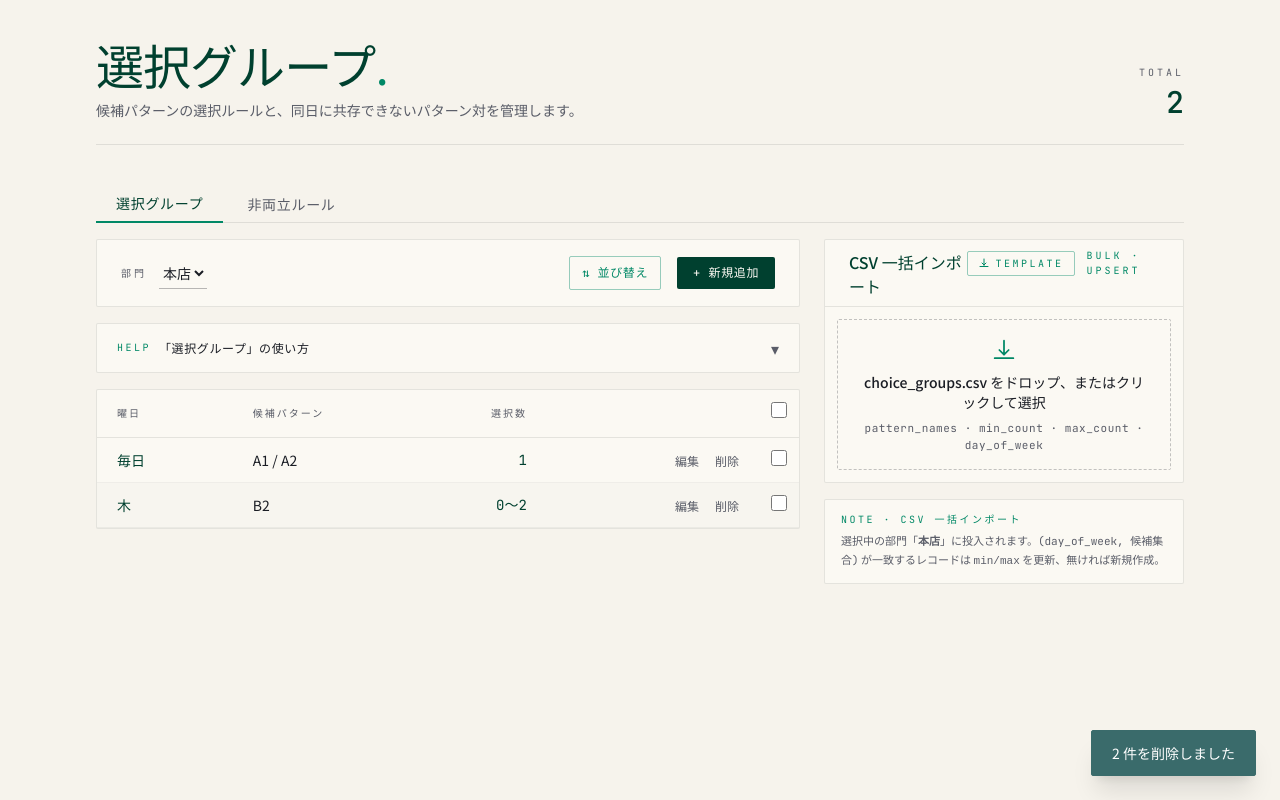
it: ChoiceGroupsPage — reorder › incomp reorder is disabled with single row
Expected: the text "毎日" is shown, [97, 438, 241, 482]
Click the button "非両立ルール" at {"x": 292, "y": 204}, box [227, 185, 356, 222]
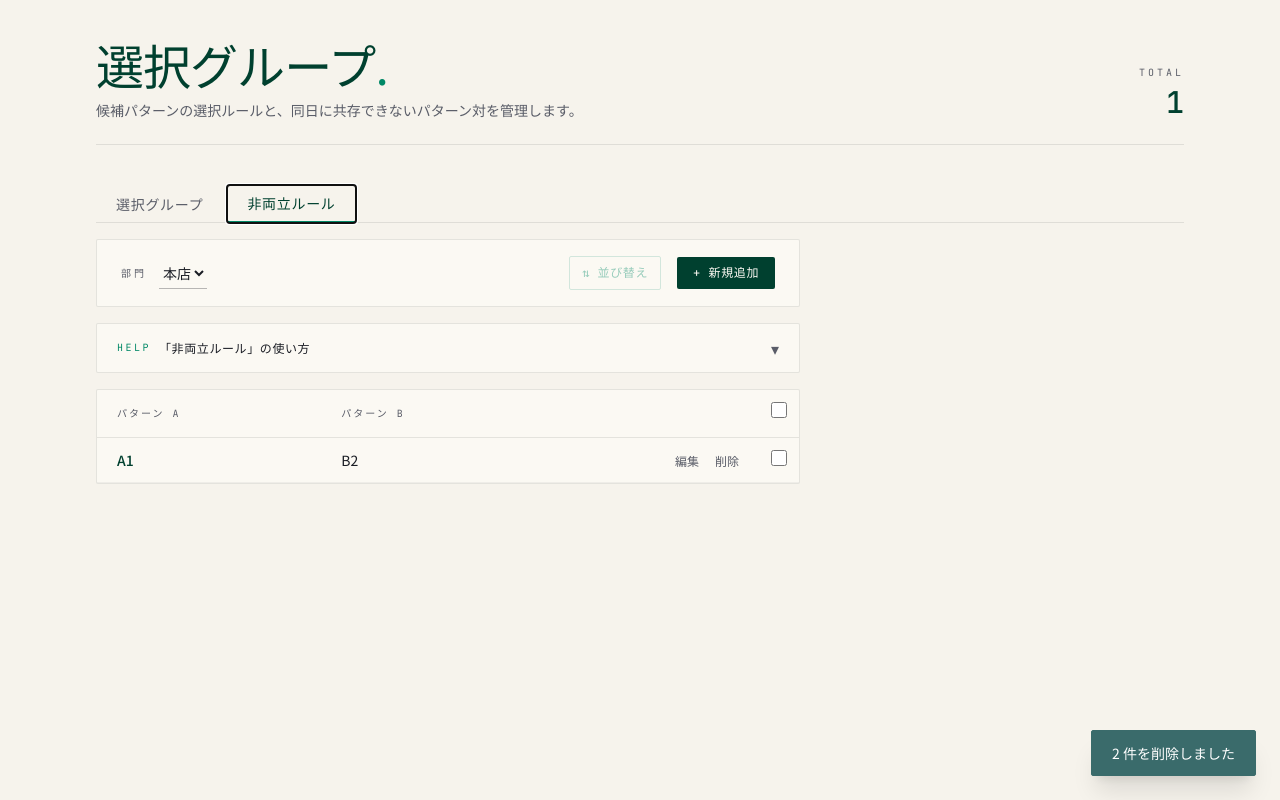
Now the button "⇅ 並び替え" is disabled, box [569, 256, 661, 290]
